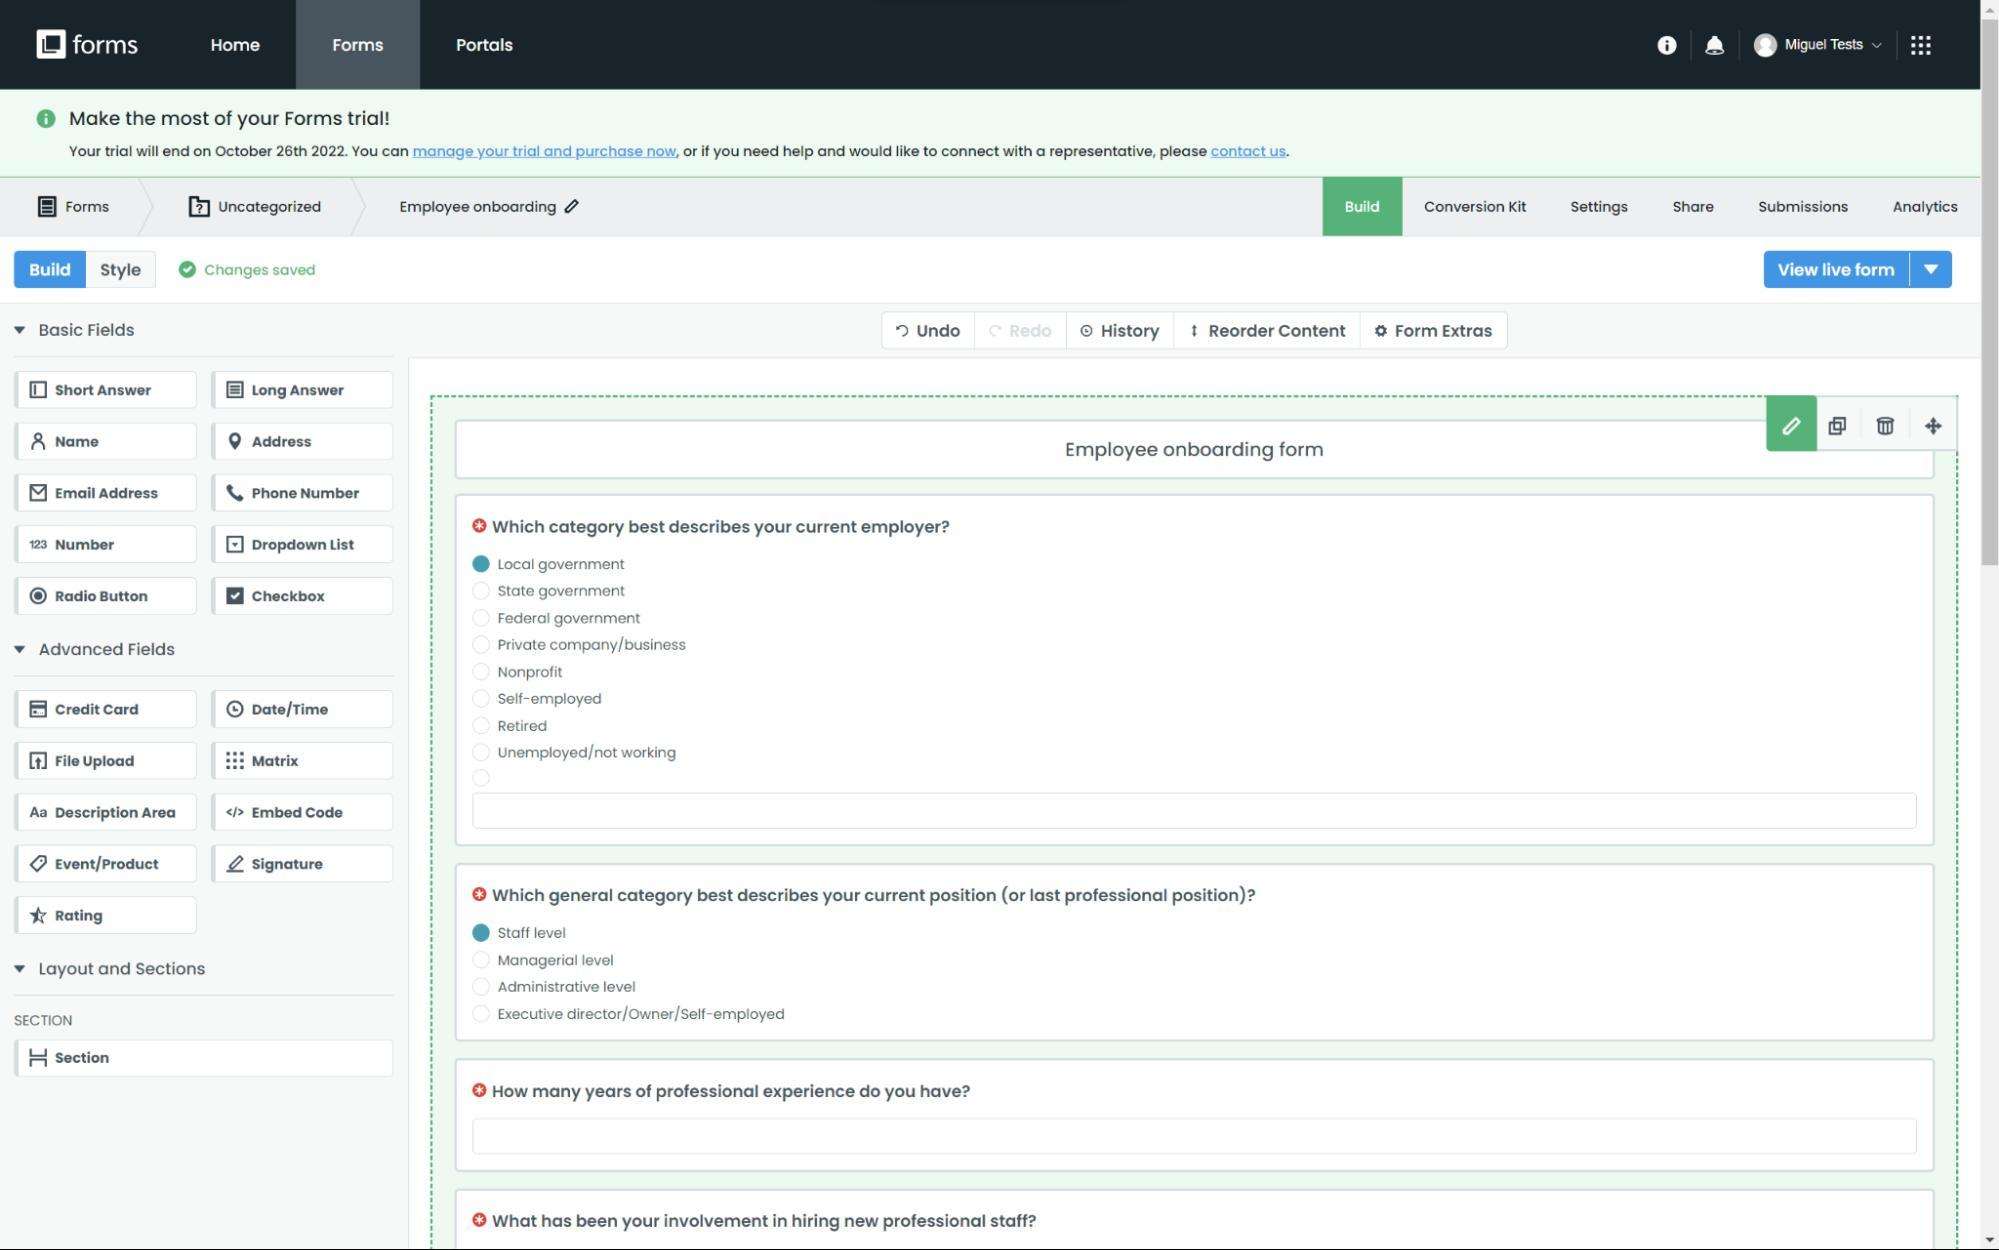button: (16, 1040, 396, 1080), (421, 1, 544, 89), (297, 1, 421, 89), (176, 1, 297, 89), (1177, 310, 1361, 351), (212, 472, 395, 514), (14, 894, 197, 936), (16, 423, 202, 464), (212, 576, 396, 616), (212, 422, 395, 462), (14, 845, 197, 886), (16, 690, 197, 730), (14, 474, 197, 513), (14, 526, 197, 565), (212, 526, 395, 565), (14, 577, 197, 616), (212, 742, 395, 781), (212, 793, 395, 832), (213, 372, 395, 410), (14, 793, 196, 832), (212, 691, 395, 729), (14, 743, 197, 781), (1361, 310, 1509, 354), (212, 847, 395, 883), (20, 373, 197, 409), (1324, 177, 1404, 238), (1069, 311, 1175, 351), (976, 311, 1069, 351), (881, 311, 976, 350), (14, 251, 86, 289), (88, 252, 157, 289)
checkbox: (470, 922, 494, 946), (472, 635, 493, 657), (472, 554, 493, 575), (472, 582, 493, 602), (472, 609, 493, 629), (472, 662, 493, 683), (472, 950, 493, 971), (472, 976, 493, 997), (472, 690, 493, 709), (472, 717, 493, 736), (472, 745, 493, 763), (472, 770, 493, 789), (472, 1005, 493, 1024), (228, 588, 246, 605)
dropdown: (1766, 252, 1953, 289)
icon: (35, 26, 69, 62), (1776, 410, 1807, 442), (1918, 413, 1950, 442), (1823, 412, 1852, 442), (1907, 32, 1936, 60), (1872, 412, 1901, 441), (1751, 33, 1780, 60), (187, 194, 215, 220), (1704, 35, 1728, 59), (37, 194, 60, 220), (27, 377, 50, 400), (27, 482, 50, 505), (29, 853, 52, 876), (1658, 33, 1679, 58), (225, 851, 246, 876), (226, 749, 248, 772), (29, 750, 50, 772), (225, 380, 248, 400), (27, 700, 50, 720), (228, 482, 248, 504), (30, 904, 49, 927), (228, 698, 246, 720), (30, 431, 48, 454), (563, 197, 582, 217), (228, 536, 248, 554), (229, 432, 248, 452), (223, 805, 249, 819), (896, 323, 915, 340), (1080, 321, 1096, 340), (1373, 323, 1391, 338), (14, 642, 30, 657), (1190, 323, 1201, 338)
input: (472, 793, 1918, 831)
label: (472, 1120, 1915, 1159), (493, 884, 1266, 914), (490, 1210, 1043, 1236), (493, 1082, 974, 1106), (491, 518, 953, 541), (495, 1005, 786, 1028), (1063, 439, 1326, 464), (37, 958, 213, 981), (395, 197, 559, 222), (495, 746, 678, 766), (495, 638, 690, 657), (495, 976, 642, 999), (37, 639, 180, 662), (497, 611, 642, 632), (1751, 196, 1858, 220), (1420, 197, 1532, 220), (40, 320, 143, 344), (498, 557, 629, 576), (498, 585, 629, 603), (495, 950, 616, 971), (217, 197, 325, 219), (1887, 194, 1964, 223), (495, 691, 606, 710), (1568, 194, 1635, 222), (1784, 36, 1868, 56), (498, 925, 570, 945), (1666, 196, 1721, 220), (497, 665, 566, 683), (65, 197, 117, 219), (497, 719, 552, 736)
radio: (27, 585, 49, 606)
